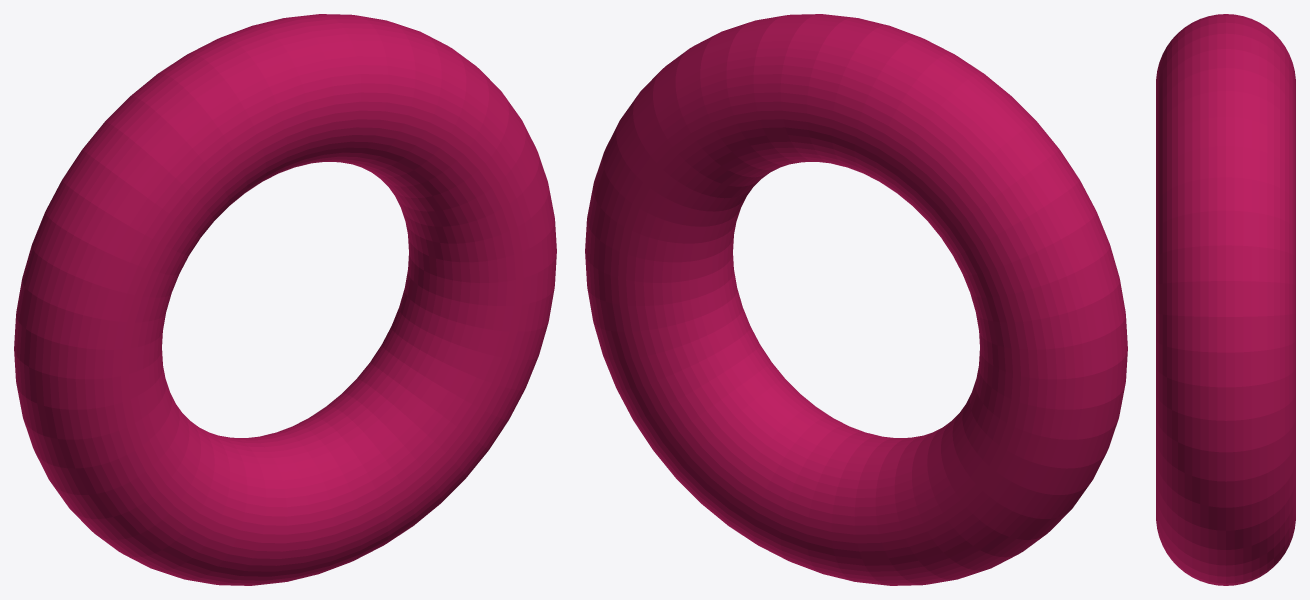
3 renders of one model, left to right at view 1: azimuth 30°, elevation 25°; view 2: azimuth 150°, elevation 25°; view 3: azimuth 270°, elevation 25°, orthographic. The views are drawn at different scales.
Parts seen in each view (by area): view 1: world; view 2: world; view 3: world.
Part boxes in pixels (x1,y1,x2,y2): world: (14,14,556,585); world: (585,14,1127,585); world: (1156,14,1295,585).
Bounding box in the file's own units: 39.73 × 39.65 × 9.71.
